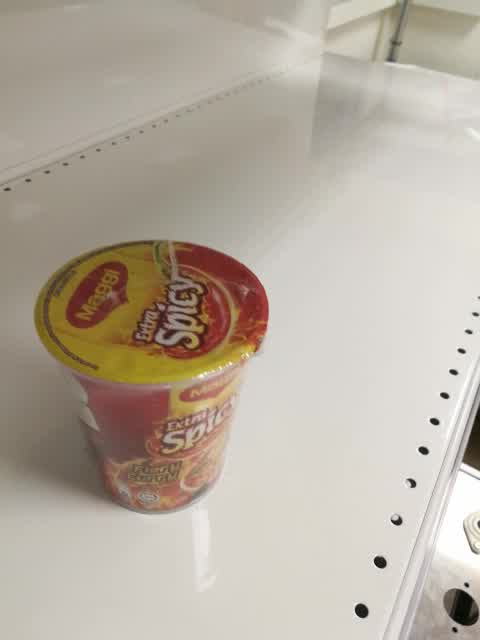maggi: (33, 239, 270, 516)
